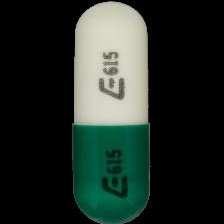12634-833: (0, 0, 224, 224)
